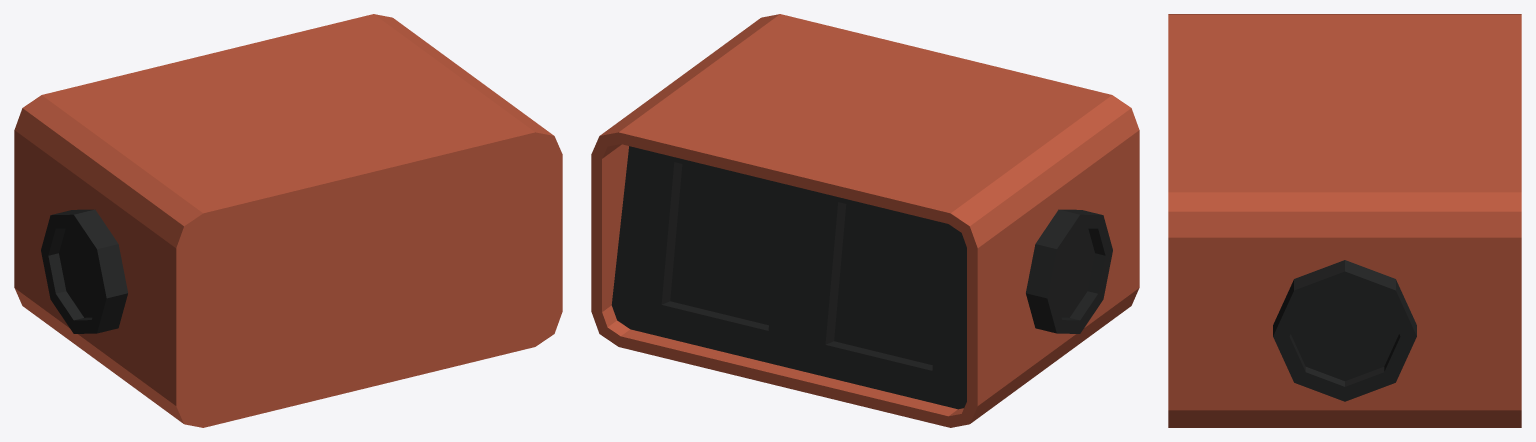
The model's file is Alarm_clock.fbx.
3 renders of one model, left to right at view 1: azimuth 30°, elevation 25°; view 2: azimuth 150°, elevation 25°; view 3: azimuth 270°, elevation 25°, orthographic. The views are drawn at different scales.
Visible parts, largest first — view 1: Plane.303; view 2: Plane.303; view 3: Plane.303.
Part boxes in pixels (bbox=[...]): Plane.303: bbox=[14, 14, 562, 427]; Plane.303: bbox=[591, 14, 1139, 427]; Plane.303: bbox=[1168, 14, 1521, 427].
Bounding box in the file's own units: 0.37 × 0.2414 × 0.1767.
